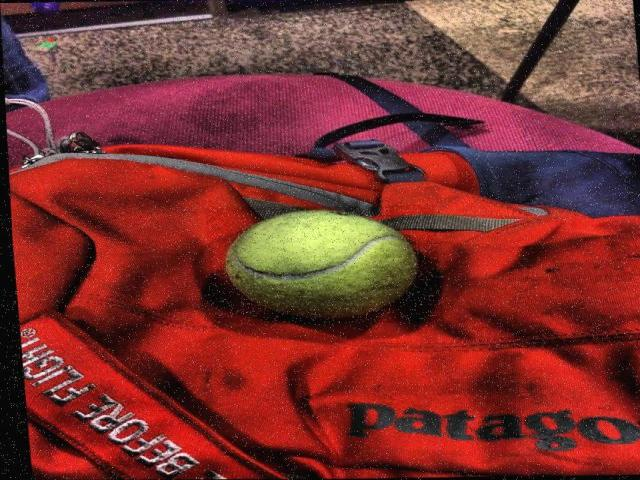tennis-ball: (224, 208, 418, 326)
